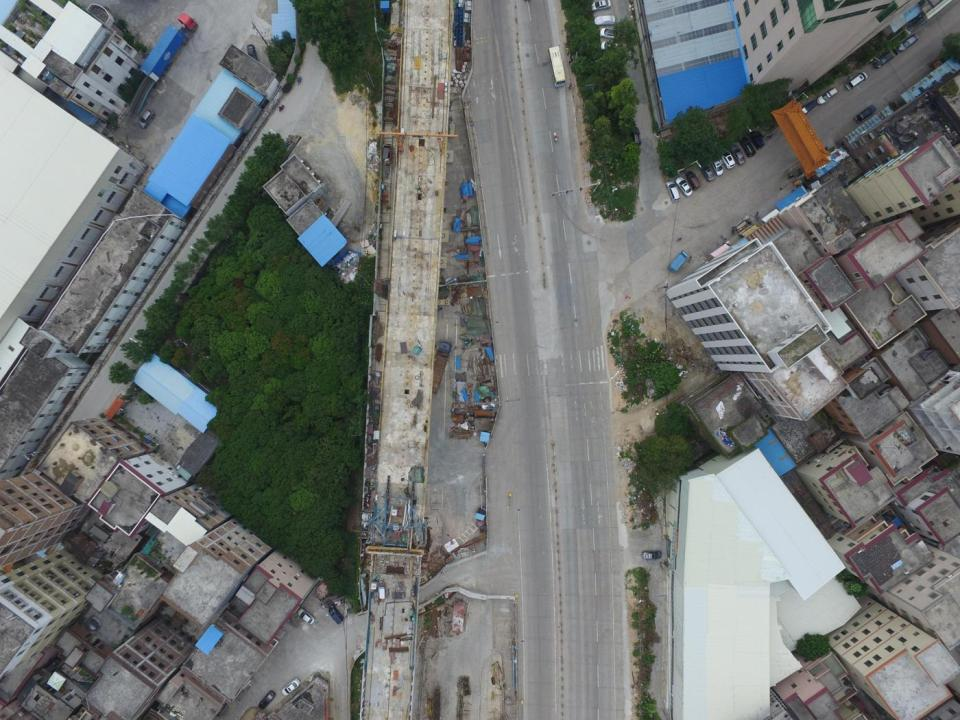bus: (548, 45, 566, 88)
car: (874, 49, 900, 68), (897, 32, 920, 51), (854, 103, 876, 122), (747, 130, 766, 150), (816, 87, 837, 105), (280, 678, 300, 696), (676, 176, 693, 197), (740, 136, 756, 158), (685, 170, 702, 190), (719, 148, 736, 168), (730, 144, 746, 165), (138, 109, 155, 128), (599, 27, 623, 40), (258, 691, 275, 709), (297, 608, 316, 624), (701, 162, 715, 182), (593, 15, 616, 27), (589, 0, 611, 12), (710, 156, 723, 176), (629, 126, 642, 146), (600, 40, 621, 52), (246, 43, 257, 65), (641, 549, 663, 560)
truck: (127, 13, 198, 115), (427, 340, 452, 393), (667, 250, 689, 273)
van: (844, 71, 869, 90), (665, 180, 680, 202), (328, 606, 344, 624)
